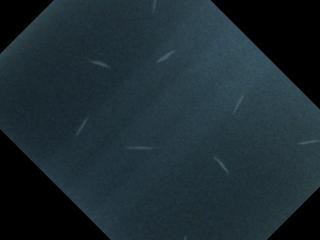scratch: (73, 110, 101, 140), (84, 51, 116, 75), (207, 149, 234, 176), (120, 138, 158, 157), (226, 91, 251, 119), (151, 46, 179, 67), (294, 133, 320, 151), (144, 0, 164, 16), (179, 231, 190, 240)
